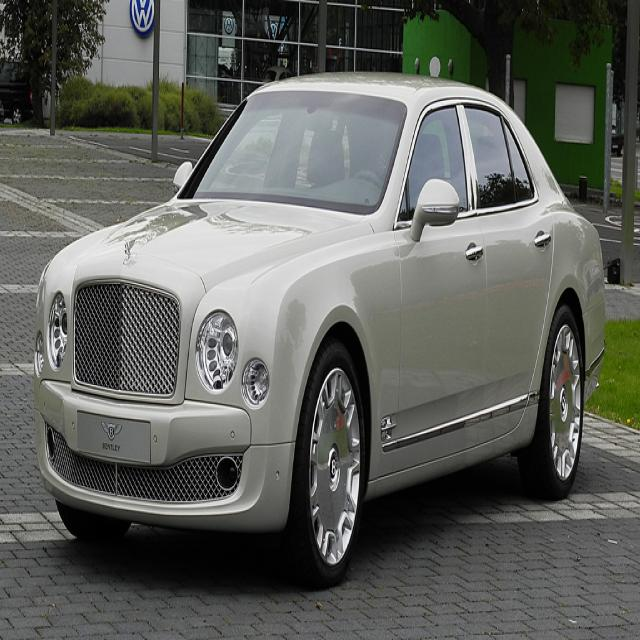car: (13, 63, 605, 562)
